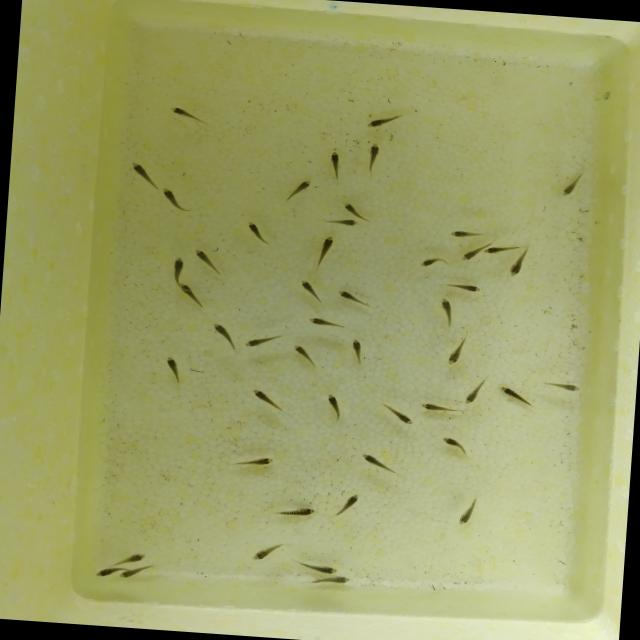fingerling: (356, 448, 393, 474), (244, 387, 284, 410), (409, 398, 457, 416), (314, 232, 341, 260), (119, 546, 152, 568), (126, 160, 156, 184), (242, 215, 268, 242), (339, 487, 365, 513), (444, 341, 468, 367), (362, 113, 398, 130), (330, 288, 370, 303), (208, 319, 234, 342), (241, 332, 270, 352), (244, 452, 278, 469), (191, 248, 217, 270), (434, 294, 456, 320), (164, 106, 202, 121), (390, 406, 415, 428), (498, 387, 532, 403), (284, 504, 314, 522), (327, 216, 365, 230), (249, 543, 273, 565), (414, 254, 447, 270), (558, 176, 582, 198), (293, 175, 314, 199), (437, 435, 466, 452), (162, 357, 184, 379), (504, 258, 528, 278), (458, 244, 482, 264), (168, 256, 186, 282), (316, 575, 356, 586), (455, 504, 475, 526), (324, 392, 344, 414), (160, 188, 182, 208), (178, 284, 201, 303), (298, 280, 321, 299), (449, 280, 484, 292), (483, 242, 513, 256), (365, 141, 380, 169), (290, 344, 314, 361), (464, 384, 482, 406), (88, 566, 116, 580), (448, 227, 477, 240), (548, 380, 582, 391), (348, 338, 365, 360), (118, 565, 140, 581), (305, 316, 339, 326), (330, 151, 341, 177), (342, 201, 359, 217), (310, 565, 338, 574)
